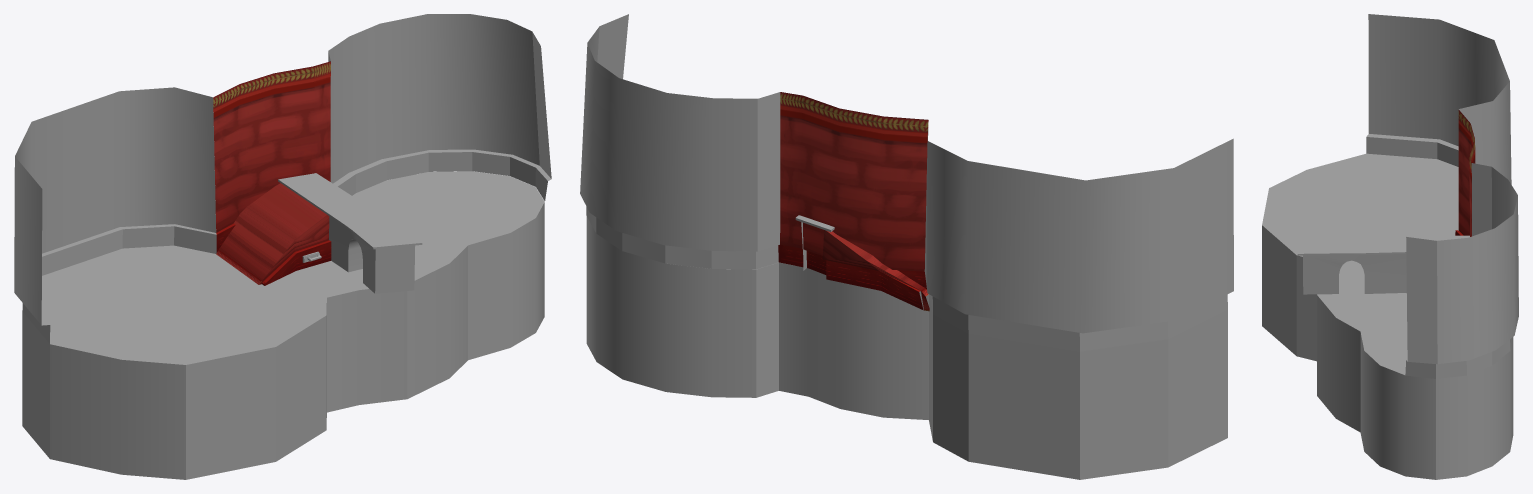
The model's file is caner_room_blockout_2.fbx.
3 views of the same model, side by side, from view 1: azimuth 30°, elevation 25°; view 2: azimuth 150°, elevation 25°; view 3: azimuth 270°, elevation 25° (orthographic). The views are drawn at different scales.
Visible parts, largest first — view 1: polySurface1, Curved_Wall, Stair_Wall, Archway, Stair_Wall1; view 2: Curved_Wall, polySurface1, Stair_Wall, Stair_Wall1; view 3: polySurface1, Curved_Wall, Archway, Stair_Wall.
Part boxes in pixels (left/top/right/bottom): polySurface1: left=22, top=171, right=544, bottom=479; Curved_Wall: left=14, top=14, right=551, bottom=343; Stair_Wall: left=213, top=61, right=330, bottom=252; Archway: left=278, top=173, right=422, bottom=293; Stair_Wall1: left=216, top=183, right=331, bottom=285; Curved_Wall: left=580, top=14, right=1233, bottom=351; polySurface1: left=586, top=216, right=1227, bottom=479; Stair_Wall: left=778, top=92, right=928, bottom=291; Stair_Wall1: left=822, top=230, right=929, bottom=311; polySurface1: left=1262, top=153, right=1513, bottom=479; Curved_Wall: left=1366, top=14, right=1518, bottom=378; Archway: left=1297, top=235, right=1469, bottom=294; Stair_Wall: left=1455, top=110, right=1475, bottom=236.
Size of what is drawn, in the model's own units: 1867 by 900 by 880.
